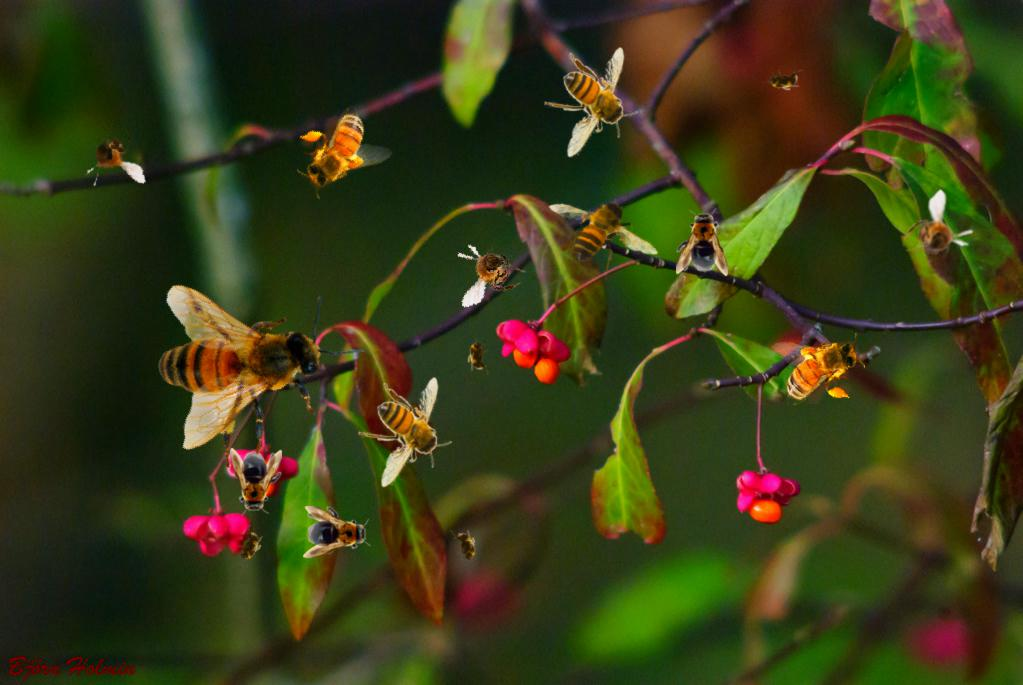Bee: (107, 232, 380, 502), (282, 99, 396, 202), (546, 185, 661, 283), (544, 47, 638, 158), (358, 377, 452, 488), (891, 187, 984, 281), (770, 332, 868, 407), (448, 231, 531, 309), (73, 115, 148, 197), (303, 506, 371, 558), (676, 208, 728, 276), (230, 448, 282, 516), (229, 524, 269, 570), (450, 524, 482, 570), (763, 69, 803, 91), (467, 335, 489, 375)
